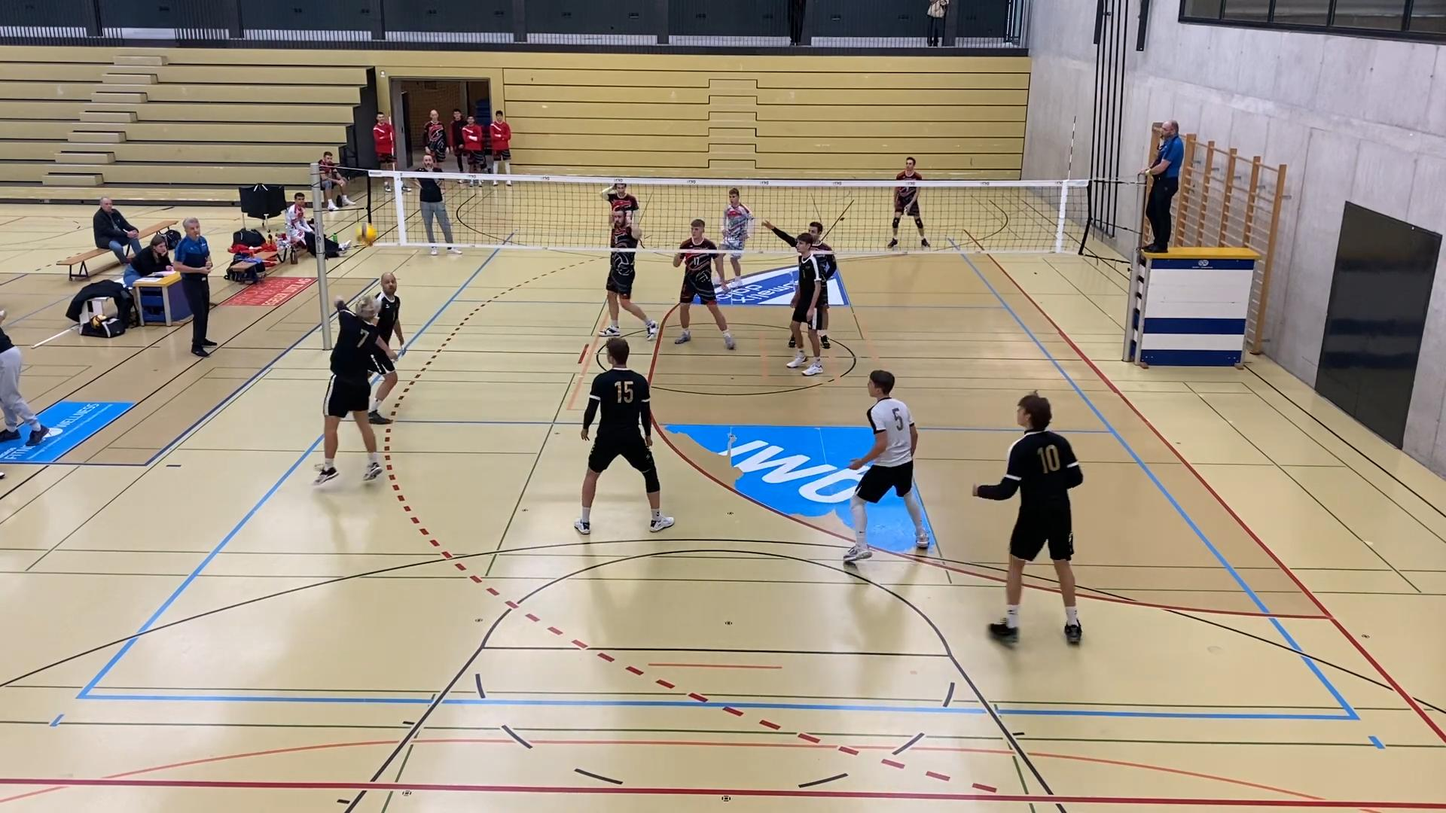Player: (973, 393, 1082, 644), (575, 337, 673, 534), (844, 370, 929, 562), (673, 219, 734, 349), (599, 209, 657, 340), (786, 233, 824, 376), (721, 187, 753, 280), (888, 184, 929, 248), (368, 348, 398, 425), (807, 221, 837, 282), (600, 181, 638, 212)
Receive: (315, 289, 382, 483)
ball: (357, 221, 382, 243)
